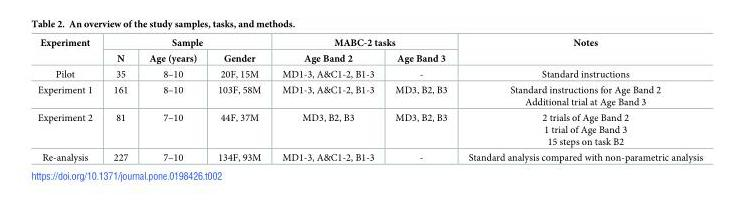table: (36, 37, 702, 162)
table column: (457, 37, 702, 162), (270, 37, 384, 162), (384, 37, 457, 162), (137, 37, 206, 162), (36, 37, 102, 162), (206, 37, 270, 162), (102, 37, 137, 162)
table column header: (36, 37, 702, 65)
table row: (36, 109, 702, 149), (36, 81, 702, 109), (36, 65, 702, 81), (36, 50, 702, 65), (36, 37, 702, 50), (36, 149, 702, 162)
table spanning cell: (457, 37, 702, 65), (270, 37, 457, 50), (102, 37, 270, 50), (36, 37, 102, 65)
